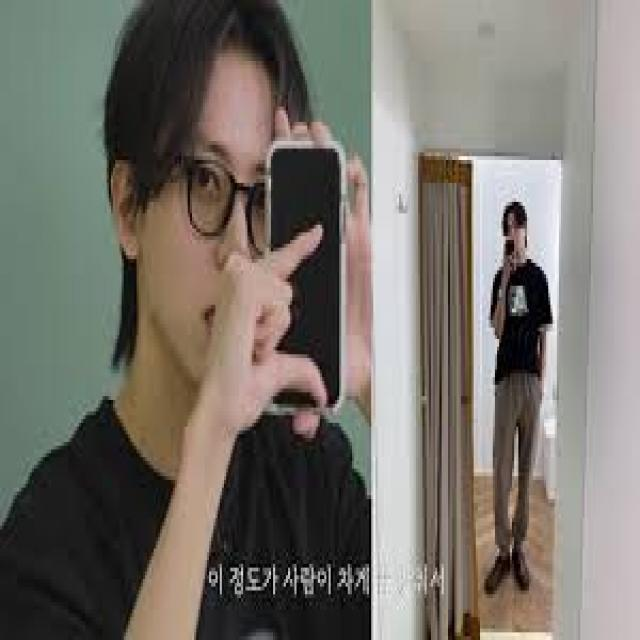Phone: (264, 143, 345, 415), (503, 238, 518, 288)
